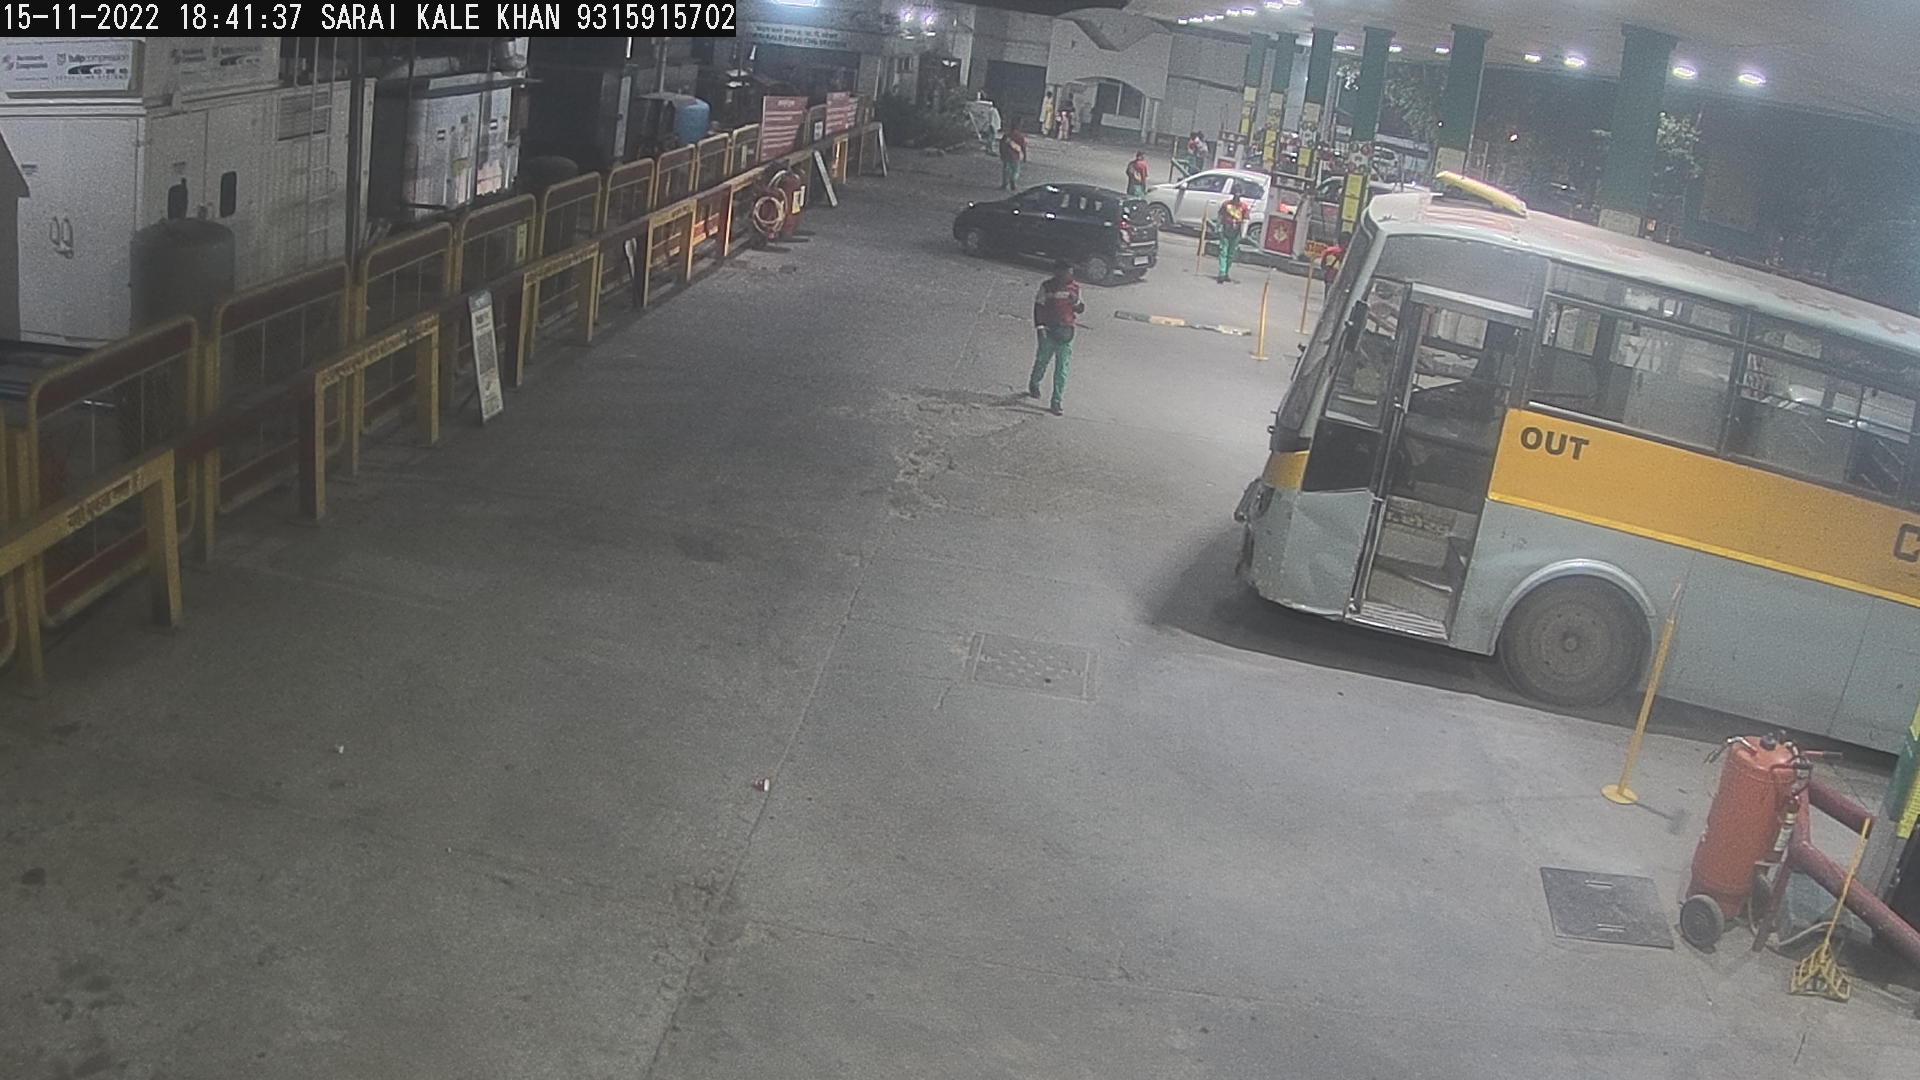Car: (936, 171, 1175, 309), (1114, 154, 1287, 257), (1276, 165, 1352, 255), (1361, 140, 1414, 185)
HMV: (1207, 133, 1917, 841)
Others: (982, 107, 1047, 200), (1313, 214, 1365, 323), (1209, 179, 1254, 290), (1120, 132, 1162, 206)
Others Other: (1588, 571, 1693, 814), (1236, 252, 1286, 365), (1292, 229, 1331, 344), (1189, 179, 1209, 291)
